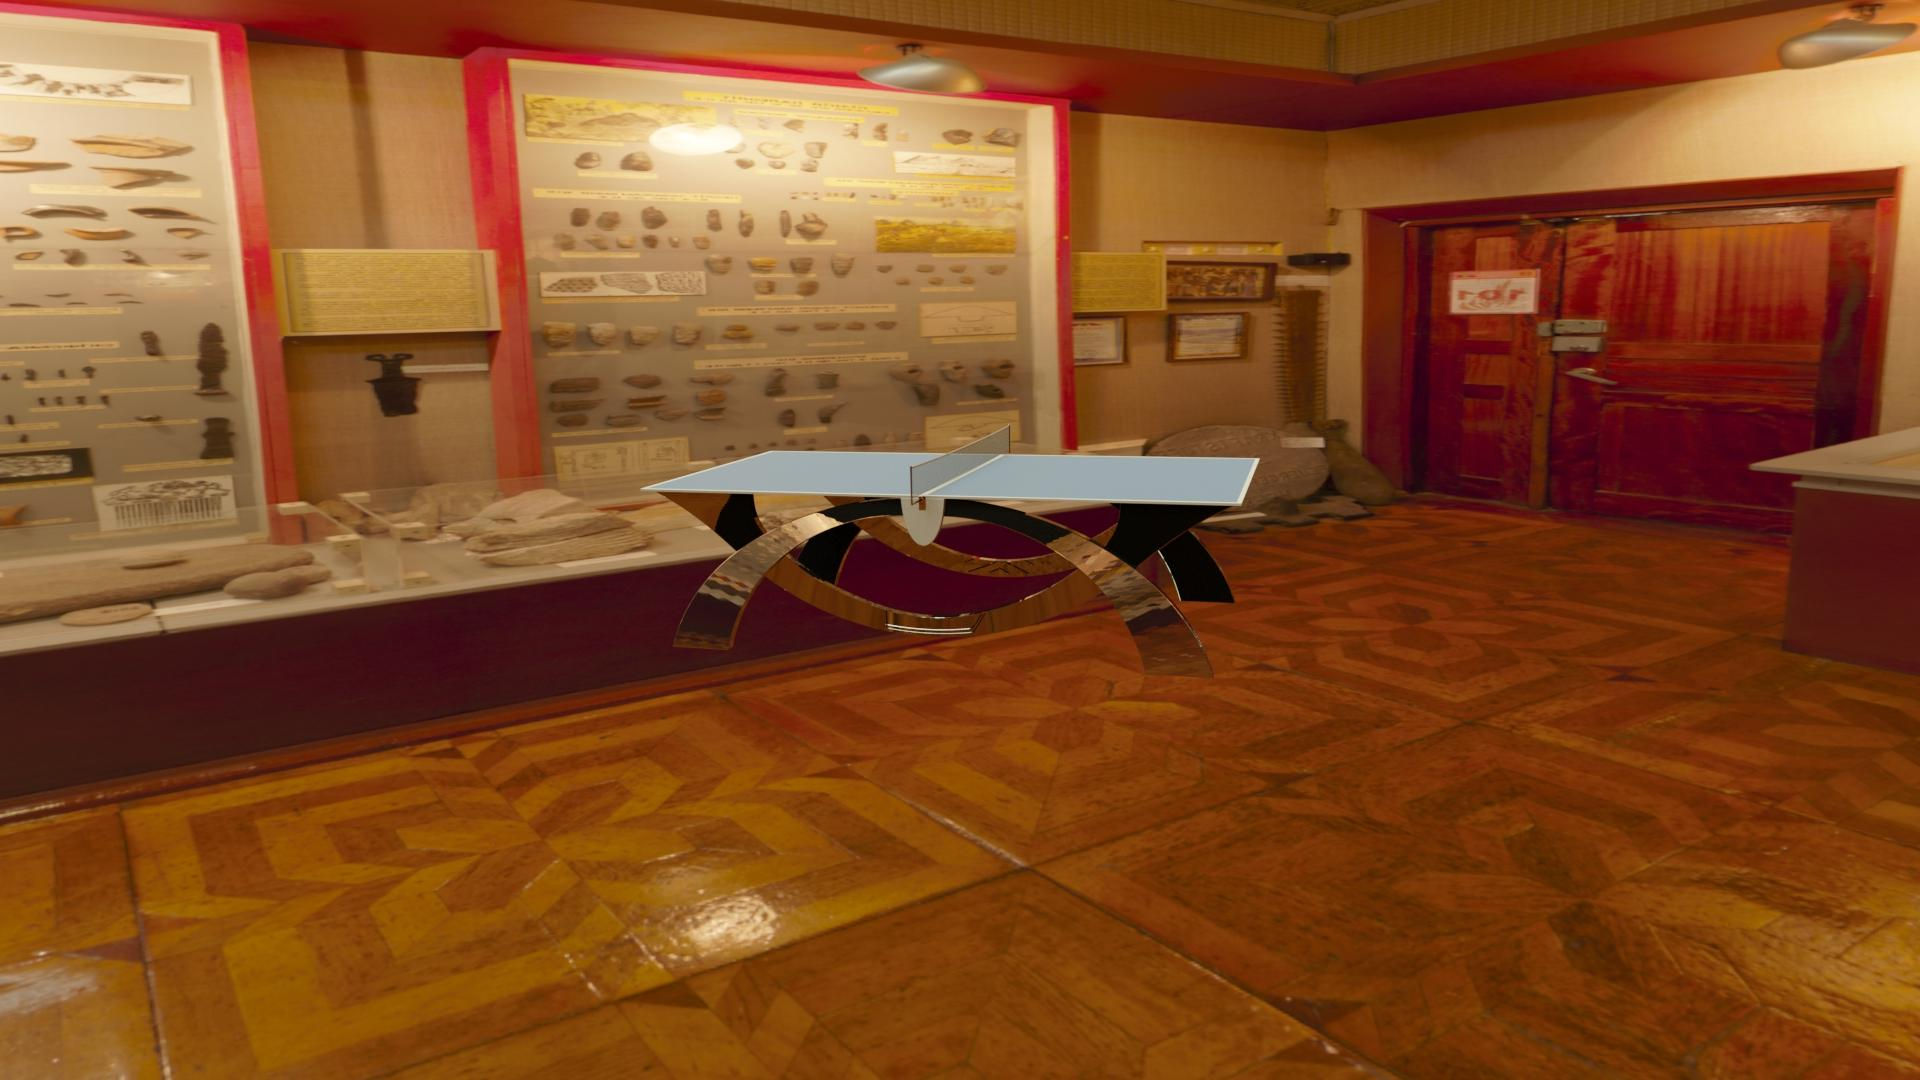table: (646, 451, 1255, 502)
